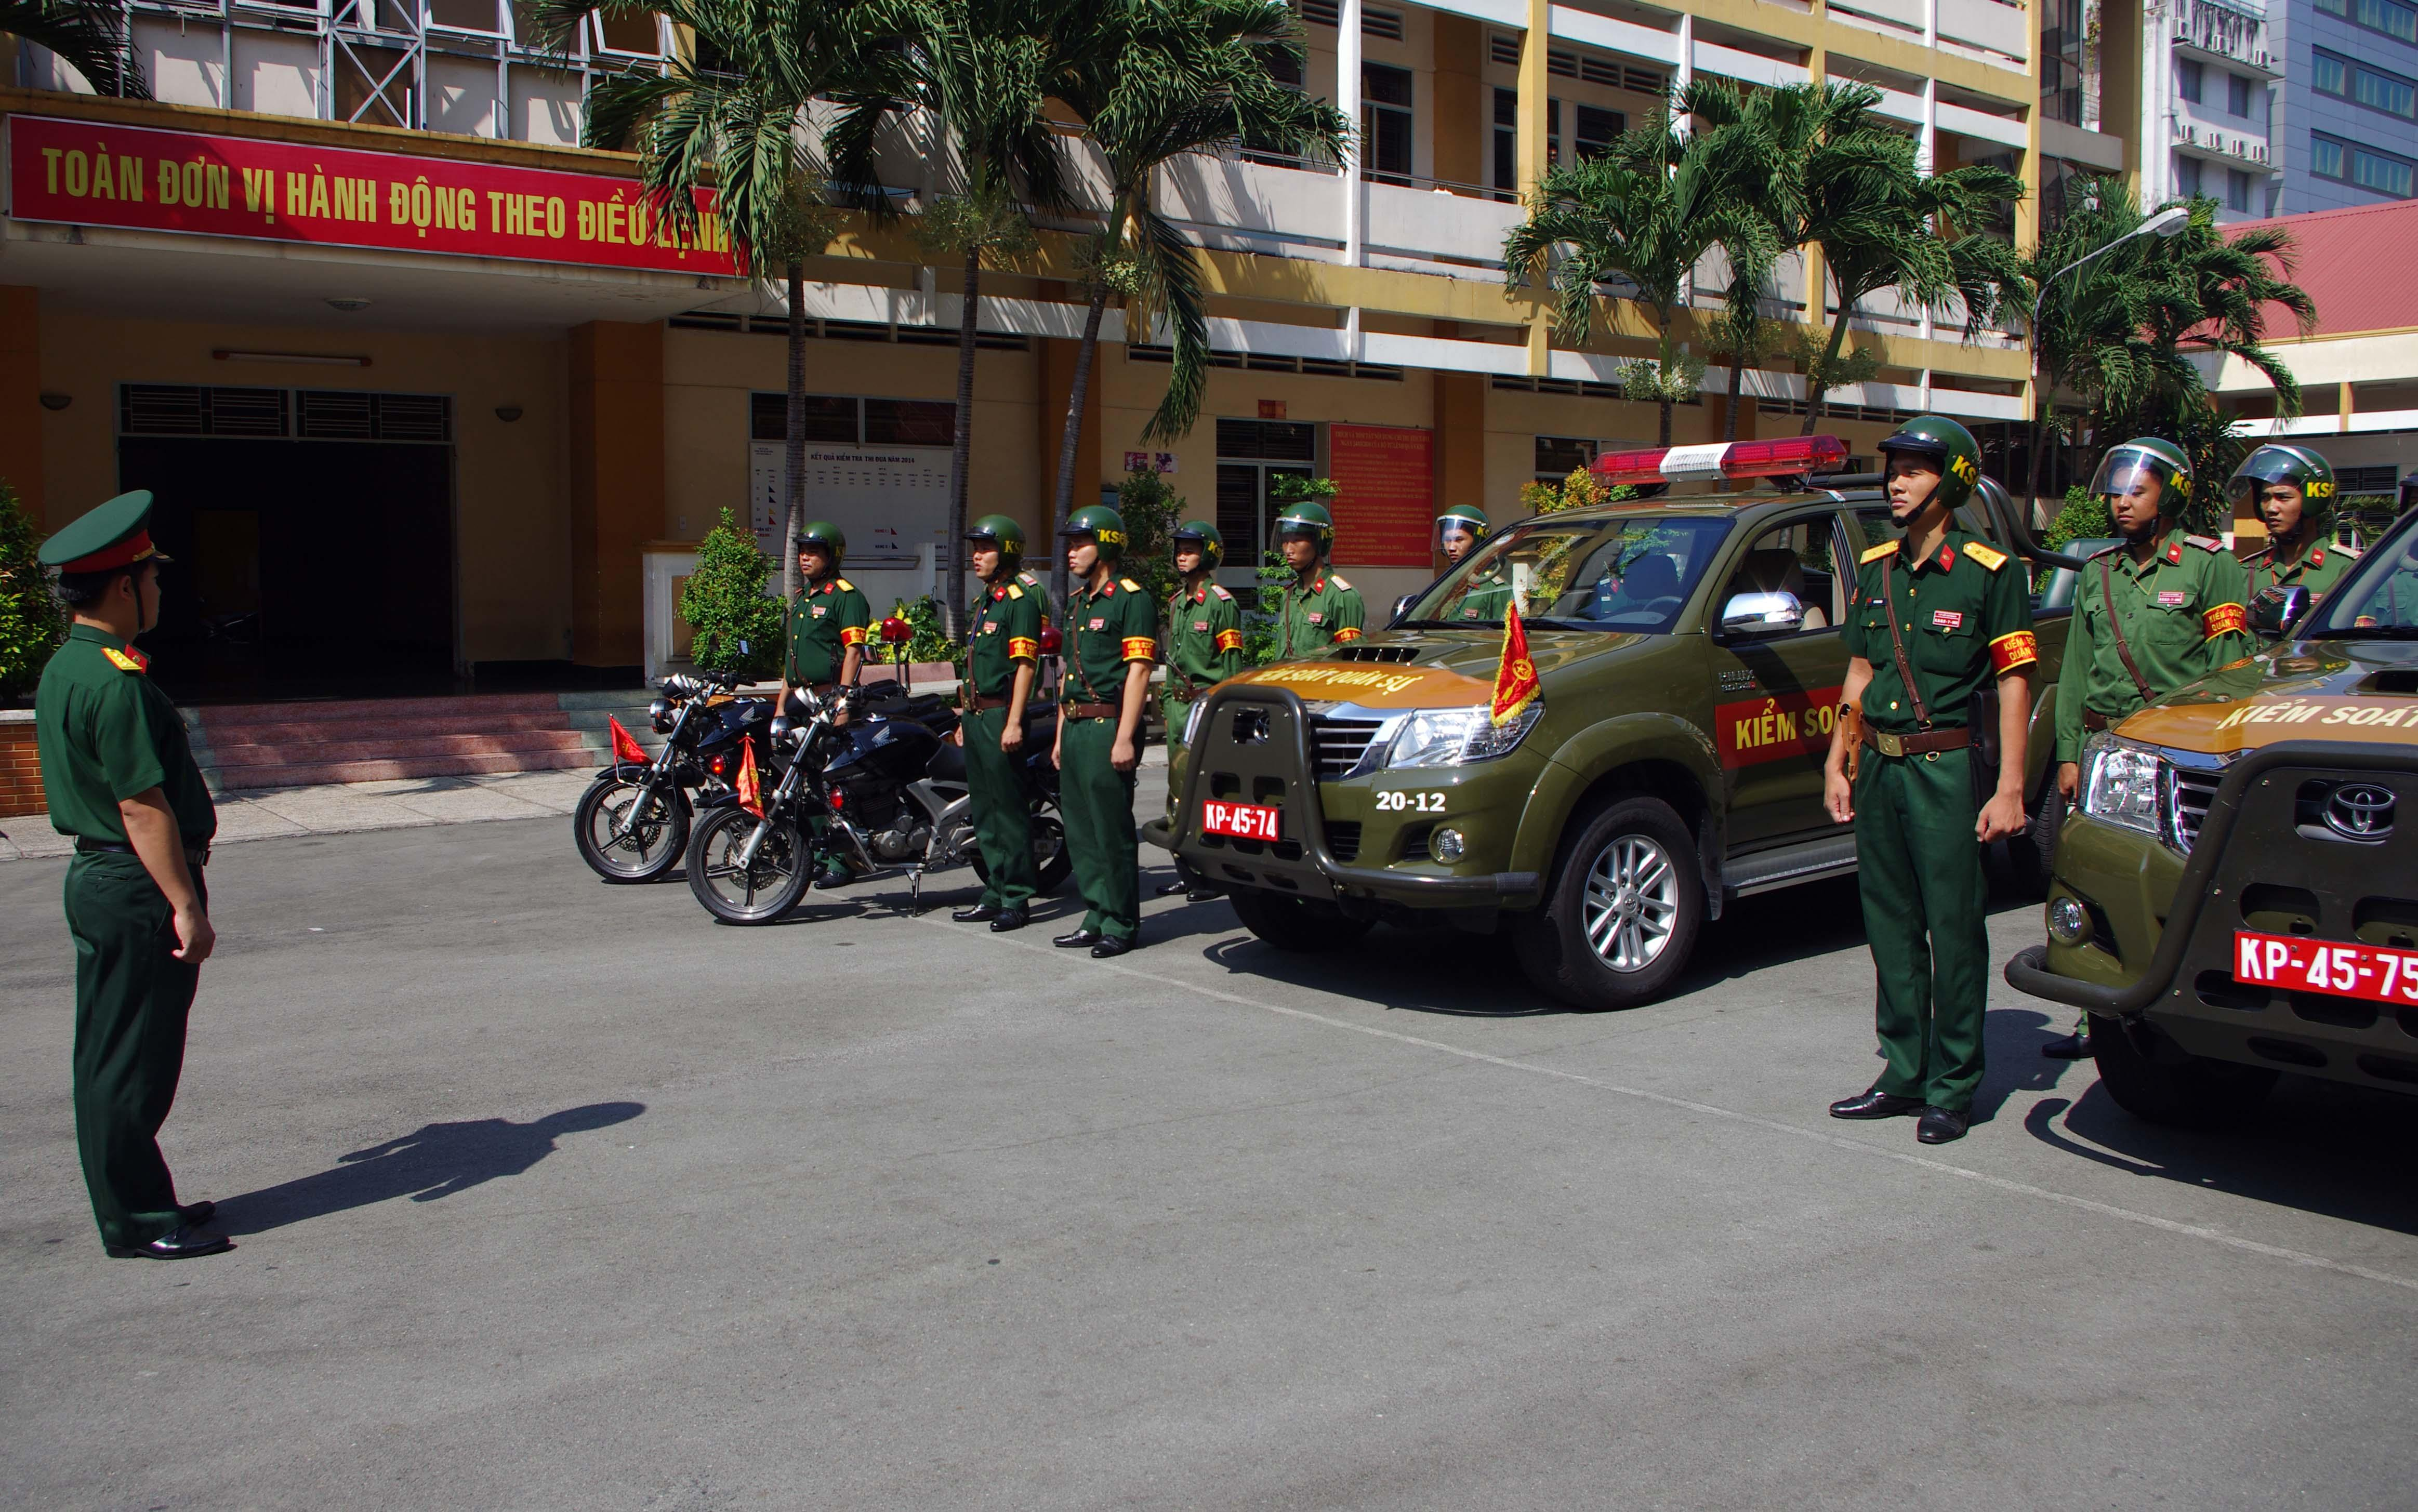plate: (2230, 921, 2417, 1022), (1201, 802, 1284, 846)
